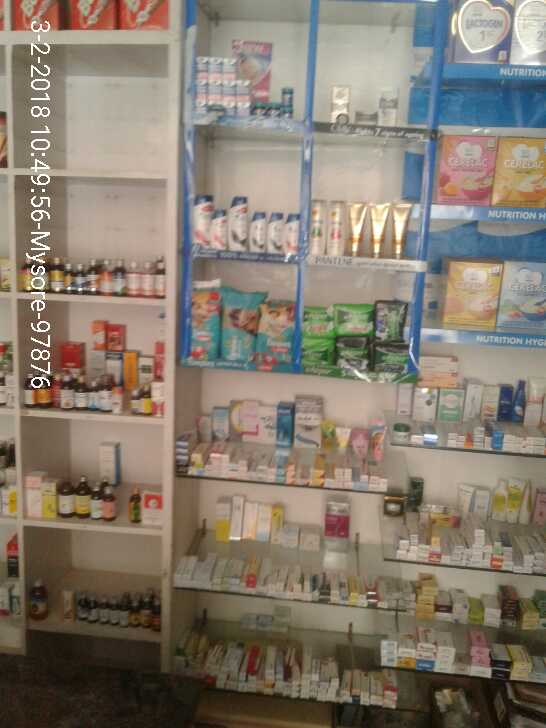beauty: (228, 195, 251, 255), (346, 200, 366, 258), (371, 203, 390, 260), (393, 206, 414, 256), (308, 199, 326, 257), (194, 193, 214, 244), (326, 198, 342, 259), (249, 211, 268, 255), (266, 213, 285, 255), (284, 213, 301, 257), (331, 85, 349, 124), (377, 84, 394, 125), (212, 209, 228, 247)
pharmacy: (217, 287, 257, 366), (258, 302, 293, 368), (191, 288, 220, 358), (373, 303, 406, 341), (300, 331, 332, 370), (333, 336, 367, 372), (336, 302, 373, 335), (372, 345, 409, 371), (304, 303, 336, 333), (234, 77, 251, 99), (207, 55, 223, 78), (195, 54, 208, 79), (221, 57, 236, 77), (280, 87, 296, 104), (236, 100, 249, 116), (193, 97, 209, 110), (252, 100, 265, 116), (223, 78, 235, 95), (223, 100, 235, 116), (208, 80, 221, 93)
